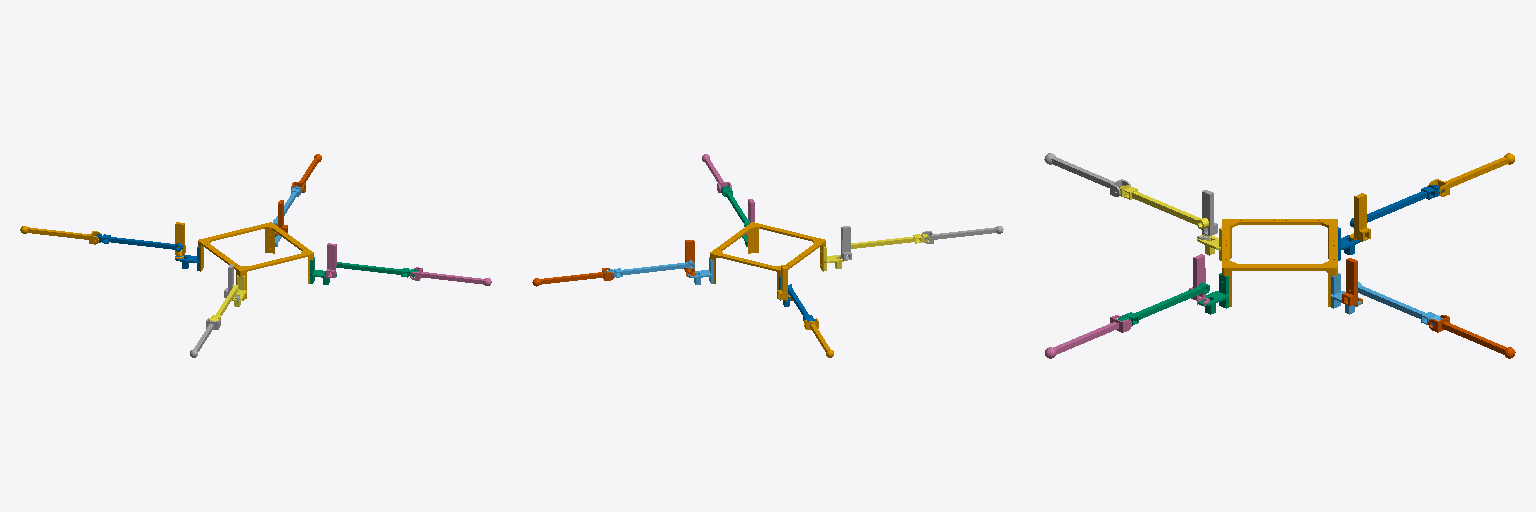
The robot description file, URDF, robot "Quadruped":
<?xml version="1.0"?>
<robot name="Quadruped">
    <link name="base_link">
        <inertial>
            <origin xyz="0.0 0.0 0.016" rpy="0.0 0.0 0.0"/>
            <mass value="0.075"/>
            <inertia ixx="695485120.0" ixy="-2435146.5" ixz="-281720.625000" iyy="695484992.0" iyz="-281714.906250" izz="1298574464.0"/>
        </inertial>
        
        <visual>
            <geometry>
                <mesh filename="package://URDF_Quadruped/STLs/Cuerpo.stl" scale="0.001 0.001 0.001"/>
            </geometry>    
        </visual>
        
        <origin xyz="0 0 0" rpy="0 0 0"/>

        <collision>
            <origin rpy="0 0 0" xyz="0 0 0"/>
            <geometry>
              <mesh filename="package://URDF_Quadruped/STLs/Cuerpo.stl" scale="0.001 0.001 0.001"/>
            </geometry>
        </collision>

    </link>

    <link name="shoulder1">
        <!-- 
        <inertial>
            <origin xyz="0.008 0.025 -0.014" rpy="0.0 0.0 0.0"/>
            <mass value="0.01"/>
            <inertia ixx="5013284.0" ixy="-13141.944336" ixz="-14172.009766" iyy="4213659.5" iyz="-617659.9375" izz="2050850.25"/>
        </inertial>

        -->

        
        <visual>
            <origin xyz="-0.009 -0.0475 -0.002"/>
            <!-- <origin xyz="-9.0 -47.5 -2.0"/> -->
            <geometry>
                <mesh filename="package://URDF_Quadruped/STLs/HombroSoporte.stl" scale="0.001 0.001 0.001"/>
            </geometry>
        </visual>

        <collision>
            <origin xyz="-0.009 -0.0475 -0.002"/>
            <geometry>
                <mesh filename="package://URDF_Quadruped/STLs/HombroSoporte.stl" scale="0.001 0.001 0.001"/>
            </geometry>
        </collision>
    </link>

    <link name="shoulder2">
        <visual>
            <origin xyz="-0.009 -0.0475 -0.002"/>
            <!-- <origin xyz="-9.0 -47.5 -2.0"/> -->
            <geometry>
                <mesh filename="package://URDF_Quadruped/STLs/HombroSoporte.stl" scale="0.001 0.001 0.001"/>
            </geometry>
        </visual>

        <collision>
            <origin xyz="-0.009 -0.0475 -0.002"/>
            <geometry>
                <mesh filename="package://URDF_Quadruped/STLs/HombroSoporte.stl" scale="0.001 0.001 0.001"/>
            </geometry>
        </collision>
    </link>

    <link name="shoulder3">
        <visual>
            <origin xyz="-0.009 -0.0475 -0.002"/>
            <!-- <origin xyz="-9.0 -47.5 -2.0"/> -->
            <geometry>
                <mesh filename="package://URDF_Quadruped/STLs/HombroSoporte.stl" scale="0.001 0.001 0.001"/>
            </geometry>
        </visual>

        <collision>
            <origin xyz="-0.009 -0.0475 -0.002"/>
            <geometry>
                <mesh filename="package://URDF_Quadruped/STLs/HombroSoporte.stl" scale="0.001 0.001 0.001"/>
            </geometry>
        </collision>
    </link>

    <link name="shoulder4">
        <visual>
            <origin xyz="-0.009 -0.0475 -0.002"/>
            <!-- <origin xyz="-9.0 -47.5 -2.0"/> -->
            <geometry>
                <mesh filename="package://URDF_Quadruped/STLs/HombroSoporte.stl" scale="0.001 0.001 0.001"/>
            </geometry>
        </visual>

        <collision>
            <origin xyz="-0.009 -0.0475 -0.002"/>
            <geometry>
                <mesh filename="package://URDF_Quadruped/STLs/HombroSoporte.stl" scale="0.001 0.001 0.001"/>
            </geometry>
        </collision>
    </link>

    <link name="rot_shoulder1">
        <inertial>
            <origin xyz="-0.010 0.040 0.0" rpy="0.0 0.0 0.0"/>
            <mass value="0.016"/>
            <inertia ixx="12746063.0" ixy="181329.78125" ixz="38510.046875" iyy="1291722.625" iyz="-136528.234375" izz="12698897.0"/>
        </inertial>
        
        <visual>
            <origin xyz="0.0 0.0 0.0" rpy="0.0 0.0 0.0"/>
            <geometry>
                <mesh filename="package://URDF_Quadruped/STLs/soporteFemur Simplificado.stl" scale="0.001 0.001 0.001"/>
            </geometry>
        </visual>

        <collision>
            <origin xyz="0.0 0.0 0.0"/>
            <geometry>
                <mesh filename="package://URDF_Quadruped/STLs/soporteFemur Simplificado.stl" scale="0.001 0.001 0.001"/>
            </geometry>
        </collision>
    </link>

    <link name="rot_shoulder2">
        <inertial>
            <origin xyz="-0.010 0.040 0.0" rpy="0.0 0.0 0.0"/>
            <mass value="0.016"/>
            <inertia ixx="12746063.0" ixy="181329.78125" ixz="38510.046875" iyy="1291722.625" iyz="-136528.234375" izz="12698897.0"/>
        </inertial>
        <visual>
            <origin xyz="0.0 0.0 0.0" rpy="0.0 0.0 0.0"/>
            <geometry>
                <mesh filename="package://URDF_Quadruped/STLs/soporteFemur Simplificado.stl" scale="0.001 0.001 0.001"/>
            </geometry>
        </visual>

        <collision>
            <origin xyz="0.0 0.0 0.0"/>
            <geometry>
                <mesh filename="package://URDF_Quadruped/STLs/soporteFemur Simplificado.stl" scale="0.001 0.001 0.001"/>
            </geometry>
        </collision>
    </link>

    <link name="rot_shoulder3">
        <inertial>
            <origin xyz="-0.010 0.040 0.0" rpy="0.0 0.0 0.0"/>
            <mass value="0.016"/>
            <inertia ixx="12746063.0" ixy="181329.78125" ixz="38510.046875" iyy="1291722.625" iyz="-136528.234375" izz="12698897.0"/>
        </inertial>
        <visual>
            <origin xyz="0.0 0.0 0.0" rpy="0.0 0.0 0.0"/>
            <geometry>
                <mesh filename="package://URDF_Quadruped/STLs/soporteFemur Simplificado.stl" scale="0.001 0.001 0.001"/>
            </geometry>
        </visual>

        <collision>
            <origin xyz="0.0 0.0 0.0"/>
            <geometry>
                <mesh filename="package://URDF_Quadruped/STLs/soporteFemur Simplificado.stl" scale="0.001 0.001 0.001"/>
            </geometry>
        </collision>
    </link>

    <link name="rot_shoulder4">
        <inertial>
            <origin xyz="-0.010 0.040 0.0" rpy="0.0 0.0 0.0"/>
            <mass value="0.016"/>
            <inertia ixx="12746063.0" ixy="181329.78125" ixz="38510.046875" iyy="1291722.625" iyz="-136528.234375" izz="12698897.0"/>
        </inertial>
        <visual>
            <origin xyz="0.0 0.0 0.0" rpy="0.0 0.0 0.0"/>
            <geometry>
                <mesh filename="package://URDF_Quadruped/STLs/soporteFemur Simplificado.stl" scale="0.001 0.001 0.001"/>
            </geometry>
        </visual>

        <collision>
            <origin xyz="0.0 0.0 0.0"/>
            <geometry>
                <mesh filename="package://URDF_Quadruped/STLs/soporteFemur Simplificado.stl" scale="0.001 0.001 0.001"/>
            </geometry>
        </collision>
    </link>

    <joint name="S1_rot" type="revolute">
        <!-- Hay que ajustar el origen-->
        <origin xyz="0.0 -0.026 -0.0481" rpy="0.0 3.14 0.0"/>
        <parent link="shoulder1"/>
        <child link="rot_shoulder1"/>
        <axis xyz="0.0 1.0 0.0"/>
        <limit effort="0" velocity="1.0" lower="-1.57" upper="1.57" />
    </joint>   

    <joint name="S2_rot" type="revolute">
        <!-- Hay que ajustar el origen-->
        <origin xyz="0.0 -0.026 -0.0481" rpy="0.0 3.14 0.0"/>
        <parent link="shoulder2"/>
        <child link="rot_shoulder2"/>
        <axis xyz="0.0 1.0 0.0"/>
        <limit effort="0" velocity="1.0" lower="-1.57" upper="1.57" />
    </joint>   

    <joint name="S3_rot" type="revolute">
        <!-- Hay que ajustar el origen-->
        <origin xyz="0.0 -0.026 -0.0481" rpy="0.0 3.14 0.0"/>
        <parent link="shoulder3"/>
        <child link="rot_shoulder3"/>
        <axis xyz="0.0 1.0 0.0"/>
        <limit effort="0" velocity="1.0" lower="-1.57" upper="1.57" />
    </joint>   

    <joint name="S4_rot" type="revolute">
        <!-- Hay que ajustar el origen-->
        <origin xyz="0.0 -0.026 -0.0481" rpy="0.0 3.14 0.0"/>
        <parent link="shoulder4"/>
        <child link="rot_shoulder4"/>
        <axis xyz="0.0 1.0 0.0"/>
        <limit effort="0" velocity="1.0" lower="-1.57" upper="1.57" />
    </joint>   

    
    <link name="femur1">
        <inertial>
            <origin xyz="0.006 0.0 0.104" rpy="0.0 0.0 0.0"/>
            <mass value="0.020"/>
            <inertia ixx="98539800.0" ixy="0.020324" ixz="-8.314446" iyy="98587560.0" iyz="37010.734375" izz="622656.5"/>
        </inertial>
        
        <visual>
            <origin xyz="0.0 0.0 0.0" rpy="0.0 0.0 0.0"/>
            <geometry>
                <mesh filename="package://URDF_Quadruped/STLs/femurSimplificado.stl" scale="0.001 0.001 0.001"/>
            </geometry>
        </visual>

        <collision>
            <origin xyz="0.0 0.0 0.0"/>
            <geometry>
                <mesh filename="package://URDF_Quadruped/STLs/femurSimplificado.stl" scale="0.001 0.001 0.001"/>
            </geometry>
        </collision>
    </link>

    <link name="femur2">
        <inertial>
            <origin xyz="0.006 0.0 0.104" rpy="0.0 0.0 0.0"/>
            <mass value="0.020"/>
            <inertia ixx="98539800.0" ixy="0.020324" ixz="-8.314446" iyy="98587560.0" iyz="37010.734375" izz="622656.5"/>
        </inertial>
        <visual>
            <origin xyz="0.0 0.0 0.0" rpy="0.0 0.0 0.0"/>
            <geometry>
                <mesh filename="package://URDF_Quadruped/STLs/femurSimplificado.stl" scale="0.001 0.001 0.001"/>
            </geometry>
        </visual>

        <collision>
            <origin xyz="0.0 0.0 0.0"/>
            <geometry>
                <mesh filename="package://URDF_Quadruped/STLs/femurSimplificado.stl" scale="0.001 0.001 0.001"/>
            </geometry>
        </collision>
    </link>

    <link name="femur3">
        <inertial>
            <origin xyz="0.006 0.0 0.104" rpy="0.0 0.0 0.0"/>
            <mass value="0.020"/>
            <inertia ixx="98539800.0" ixy="0.020324" ixz="-8.314446" iyy="98587560.0" iyz="37010.734375" izz="622656.5"/>
        </inertial>
        <visual>
            <origin xyz="0.0 0.0 0.0" rpy="0.0 0.0 0.0"/>
            <geometry>
                <mesh filename="package://URDF_Quadruped/STLs/femurSimplificado.stl" scale="0.001 0.001 0.001"/>
            </geometry>
        </visual>

        <collision>
            <origin xyz="0.0 0.0 0.0"/>
            <geometry>
                <mesh filename="package://URDF_Quadruped/STLs/femurSimplificado.stl" scale="0.001 0.001 0.001"/>
            </geometry>
        </collision>
    </link>

    <link name="femur4">
        <inertial>
            <origin xyz="0.006 0.0 0.104" rpy="0.0 0.0 0.0"/>
            <mass value="0.020"/>
            <inertia ixx="98539800.0" ixy="0.020324" ixz="-8.314446" iyy="98587560.0" iyz="37010.734375" izz="622656.5"/>
        </inertial>
        <visual>
            <origin xyz="0.0 0.0 0.0" rpy="0.0 0.0 0.0"/>
            <geometry>
                <mesh filename="package://URDF_Quadruped/STLs/femurSimplificado.stl" scale="0.001 0.001 0.001"/>
            </geometry>
        </visual>

        <collision>
            <origin xyz="0.0 0.0 0.0"/>
            <geometry>
                <mesh filename="package://URDF_Quadruped/STLs/femurSimplificado.stl" scale="0.001 0.001 0.001"/>
            </geometry>
        </collision>
    </link>

    <joint name="rot_femur1" type="revolute">
        <origin xyz="-0.00525 0.0298 0.0" rpy="0.0 0 0.0"/>
        <parent link="rot_shoulder1"/>
        <child link="femur1"/>
        <axis xyz="1.0 0.0 0.0"/>
        <limit effort="0" velocity="1.0" lower="-0.7" upper="0.7" />
    </joint>

    <joint name="rot_femur2" type="revolute">
        <origin xyz="-0.00525 0.0298 0.0" rpy="0.0 0 0.0"/>
        <parent link="rot_shoulder2"/>
        <child link="femur2"/>
        <axis xyz="1.0 0.0 0.0"/>
        <limit effort="0" velocity="1.0" lower="-0.7" upper="0.7" />
    </joint>

    <joint name="rot_femur3" type="revolute">
        <origin xyz="-0.00525 0.0298 0.0" rpy="0.0 0 0.0"/>
        <parent link="rot_shoulder3"/>
        <child link="femur3"/>
        <axis xyz="1.0 0.0 0.0"/>
        <limit effort="0" velocity="1.0" lower="-0.7" upper="0.7" />
    </joint>

    <joint name="rot_femur4" type="revolute">
        <origin xyz="-0.00525 0.0298 0.0" rpy="0.0 0 0.0"/>
        <parent link="rot_shoulder4"/>
        <child link="femur4"/>
        <axis xyz="1.0 0.0 0.0"/>
        <limit effort="0" velocity="1.0" lower="-0.7" upper="0.7" />
    </joint>

    <link name="tibia1">
        <inertial>
            <origin xyz="0.0 0.0 -0.090" rpy="0.0 0.0 0.0"/>
            <mass value="0.022"/>
            <inertia ixx="87849200.0" ixy="-4.369621" ixz="350352.375" iyy="88264168.0" iyz="420.641357" izz="1111564.125"/>
        </inertial>
        
        <visual>
            <origin xyz="0.0 0.0 0.0" rpy="0.0 0.0 0.0"/>
            <geometry>
                <mesh filename="package://URDF_Quadruped/STLs/Tibia.stl" scale="0.001 0.001 0.001"/>
            </geometry>
        </visual>

        <collision>
            <origin xyz="0.0 0.0 0.0"/>
            <geometry>
                <mesh filename="package://URDF_Quadruped/STLs/Tibia.stl" scale="0.001 0.001 0.001"/>
            </geometry>
        </collision>
    </link>

    <link name="tibia2">
        <inertial>
            <origin xyz="0.0 0.0 -0.090" rpy="0.0 0.0 0.0"/>
            <mass value="0.022"/>
            <inertia ixx="87849200.0" ixy="-4.369621" ixz="350352.375" iyy="88264168.0" iyz="420.641357" izz="1111564.125"/>
        </inertial>
        <visual>
            <origin xyz="0.0 0.0 0.0" rpy="0.0 0.0 0.0"/>
            <geometry>
                <mesh filename="package://URDF_Quadruped/STLs/Tibia.stl" scale="0.001 0.001 0.001"/>
            </geometry>
        </visual>

        <collision>
            <origin xyz="0.0 0.0 0.0"/>
            <geometry>
                <mesh filename="package://URDF_Quadruped/STLs/Tibia.stl" scale="0.001 0.001 0.001"/>
            </geometry>
        </collision>
    </link>

    <link name="tibia3">
        <inertial>
            <origin xyz="0.0 0.0 -0.090" rpy="0.0 0.0 0.0"/>
            <mass value="0.022"/>
            <inertia ixx="87849200.0" ixy="-4.369621" ixz="350352.375" iyy="88264168.0" iyz="420.641357" izz="1111564.125"/>
        </inertial>
        <visual>
            <origin xyz="0.0 0.0 0.0" rpy="0.0 0.0 0.0"/>
            <geometry>
                <mesh filename="package://URDF_Quadruped/STLs/Tibia.stl" scale="0.001 0.001 0.001"/>
            </geometry>
        </visual>

        <collision>
            <origin xyz="0.0 0.0 0.0"/>
            <geometry>
                <mesh filename="package://URDF_Quadruped/STLs/Tibia.stl" scale="0.001 0.001 0.001"/>
            </geometry>
        </collision>
    </link>

    <link name="tibia4">
        <inertial>
            <origin xyz="0.0 0.0 -0.090" rpy="0.0 0.0 0.0"/>
            <mass value="0.022"/>
            <inertia ixx="87849200.0" ixy="-4.369621" ixz="350352.375" iyy="88264168.0" iyz="420.641357" izz="1111564.125"/>
        </inertial>
        <visual>
            <origin xyz="0.0 0.0 0.0" rpy="0.0 0.0 0.0"/>
            <geometry>
                <mesh filename="package://URDF_Quadruped/STLs/Tibia.stl" scale="0.001 0.001 0.001"/>
            </geometry>
        </visual>

        <collision>
            <origin xyz="0.0 0.0 0.0"/>
            <geometry>
                <mesh filename="package://URDF_Quadruped/STLs/Tibia.stl" scale="0.001 0.001 0.001"/>
            </geometry>
        </collision>
    </link>

    <joint name="knee1" type="revolute">
        <origin xyz="0.00635 0.0 0.197" rpy="0.0 3.14 0.0"/>
        <parent link="femur1"/>
        <child link="tibia1"/>
        <axis xyz="1.0 0.0 0.0"/>
        <limit effort="0" velocity="1.0" lower="-1.57" upper="0.8" />
    </joint>

    <joint name="knee2" type="revolute">
        <origin xyz="0.00635 0.0 0.197" rpy="0.0 3.14 0.0"/>
        <parent link="femur2"/>
        <child link="tibia2"/>
        <axis xyz="1.0 0.0 0.0"/>
        <limit effort="0" velocity="1.0" lower="-1.57" upper="0.8" />
    </joint>

    <joint name="knee3" type="revolute">
        <origin xyz="0.00635 0.0 0.197" rpy="0.0 3.14 0.0"/>
        <parent link="femur3"/>
        <child link="tibia3"/>
        <axis xyz="1.0 0.0 0.0"/>
        <limit effort="0" velocity="1.0" lower="-1.57" upper="0.8" />
    </joint>

    <joint name="knee4" type="revolute">
        <origin xyz="0.00635 0.0 0.197" rpy="0.0 3.14 0.0"/>
        <parent link="femur4"/>
        <child link="tibia4"/>
        <axis xyz="1.0 0.0 0.0"/>
        <limit effort="0" velocity="1.0" lower="-1.57" upper="0.8" />
    </joint>



    <joint name="base1" type="fixed">
        <!-- <origin xyz="97.172 -27.5 97.172" rpy="0.0 0.0 0.0"/> -->
        <origin xyz="0.097172 0.097172 -0.0275" rpy="1.57 0.0 -0.785"/>
        <parent link="base_link"/>
        <child link="shoulder1"/>
    </joint>

    <joint name="base2" type="fixed">
        <!-- <origin xyz="97.172 -27.5 97.172" rpy="0.0 0.0 0.0"/> -->
        <origin xyz="0.097172 -0.097172 -0.0275" rpy="1.57 0.0 -2.356"/>
        <parent link="base_link"/>
        <child link="shoulder2"/>
    </joint>

    <joint name="base3" type="fixed">
        <!-- <origin xyz="97.172 -27.5 97.172" rpy="0.0 0.0 0.0"/> -->
        <origin xyz="-0.097172 -0.097172 -0.0275" rpy="1.57 0.0 2.356"/>
        <parent link="base_link"/>
        <child link="shoulder3"/>
    </joint>

    <joint name="base4" type="fixed">
        <!-- <origin xyz="97.172 -27.5 97.172" rpy="0.0 0.0 0.0"/> -->
        <origin xyz="-0.097172 0.097172 -0.0275" rpy="1.57 0.0 0.785"/>
        <parent link="base_link"/>
        <child link="shoulder4"/>
    </joint>
</robot>

--- What the picture shows (computed from the rendered views, not written in the file) ---
The picture shows the robot from 3 angles, left to right: view 1: azimuth 30°, elevation 25°; view 2: azimuth 150°, elevation 25°; view 3: azimuth 270°, elevation 25°; orthographic projection.
Model Quadruped with 17 links and 16 joints (12 revolute, 4 fixed), rooted at base_link, posed every joint at zero.
Visible links, largest first — view 1: base_link, femur4; view 2: base_link, tibia1, femur1; view 3: base_link, tibia2, femur3, tibia1, femur2, tibia3, tibia4, femur1, femur4, rot_shoulder4, rot_shoulder1, shoulder2 (+1 smaller).
Boxes of the visible links, x1,y1,x2,y2 form: base_link: (198,222,313,298); femur4: (96,234,182,251); base_link: (710,222,825,298); tibia1: (532,268,613,286); femur1: (606,260,694,277); base_link: (1222,219,1337,306); tibia2: (1045,315,1131,358); femur3: (1119,185,1208,229); tibia1: (1428,315,1515,358); femur2: (1118,282,1209,325); tibia3: (1044,153,1130,196); tibia4: (1428,153,1514,196); femur1: (1358,282,1442,326); femur4: (1350,185,1443,227); rot_shoulder4: (1350,193,1370,241); rot_shoulder1: (1342,258,1362,306); shoulder2: (1198,273,1228,314).
Bounding box of the posed robot: 0.8086 × 0.8087 × 0.1076 m (x, y, z).
17 mesh visuals loaded from 5 distinct referenced files (5 binary STL).